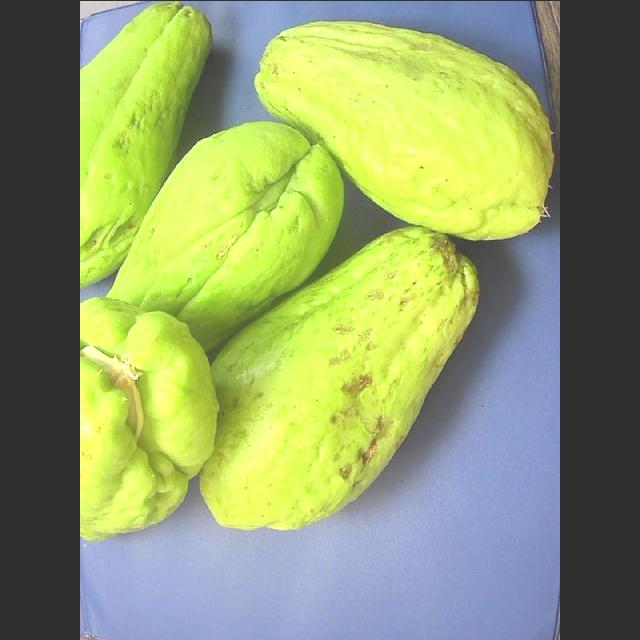chayote: (200, 227, 478, 529), (255, 20, 553, 239), (108, 121, 343, 348), (80, 1, 209, 288), (80, 297, 218, 539)
